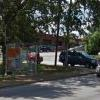Car: (56, 45, 100, 75)
